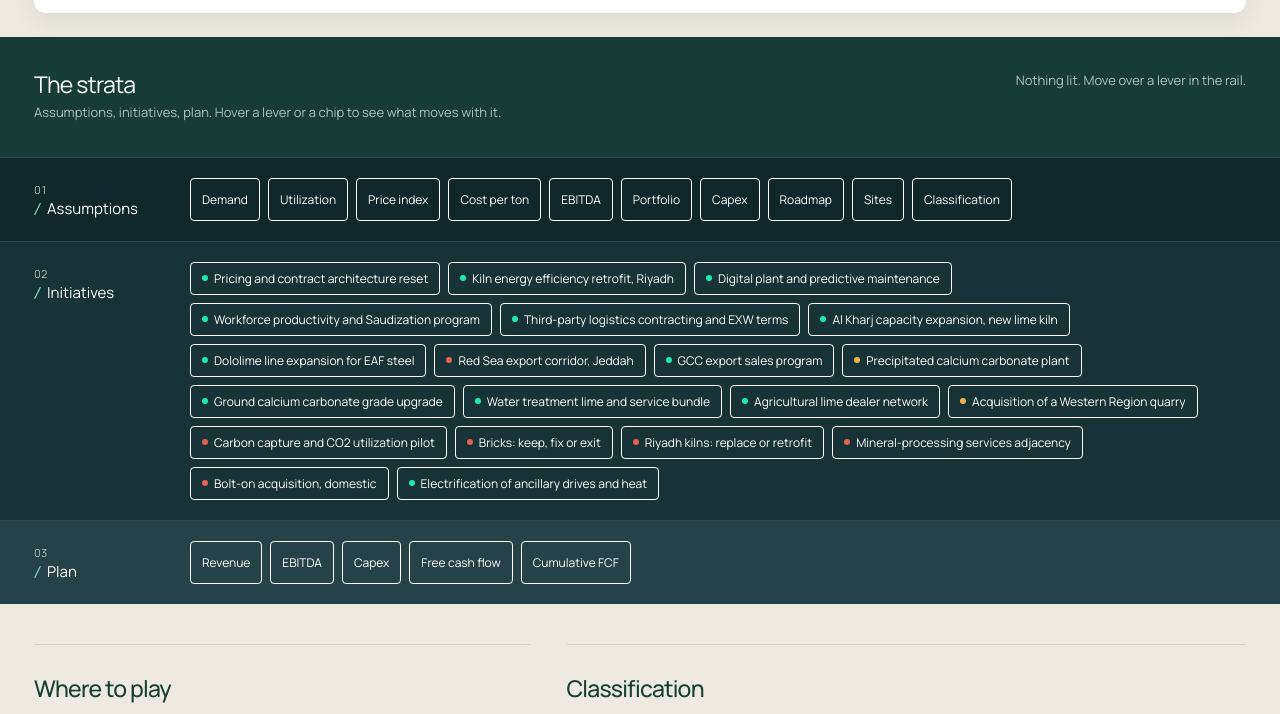
Test case: Strategic direction view › lights a path from a chip on hover and clears on leave
(page scrolled)
Step 1. Hover over the button "Red Sea export corridor, Jeddah" → (540, 360), box [434,344,646,376]
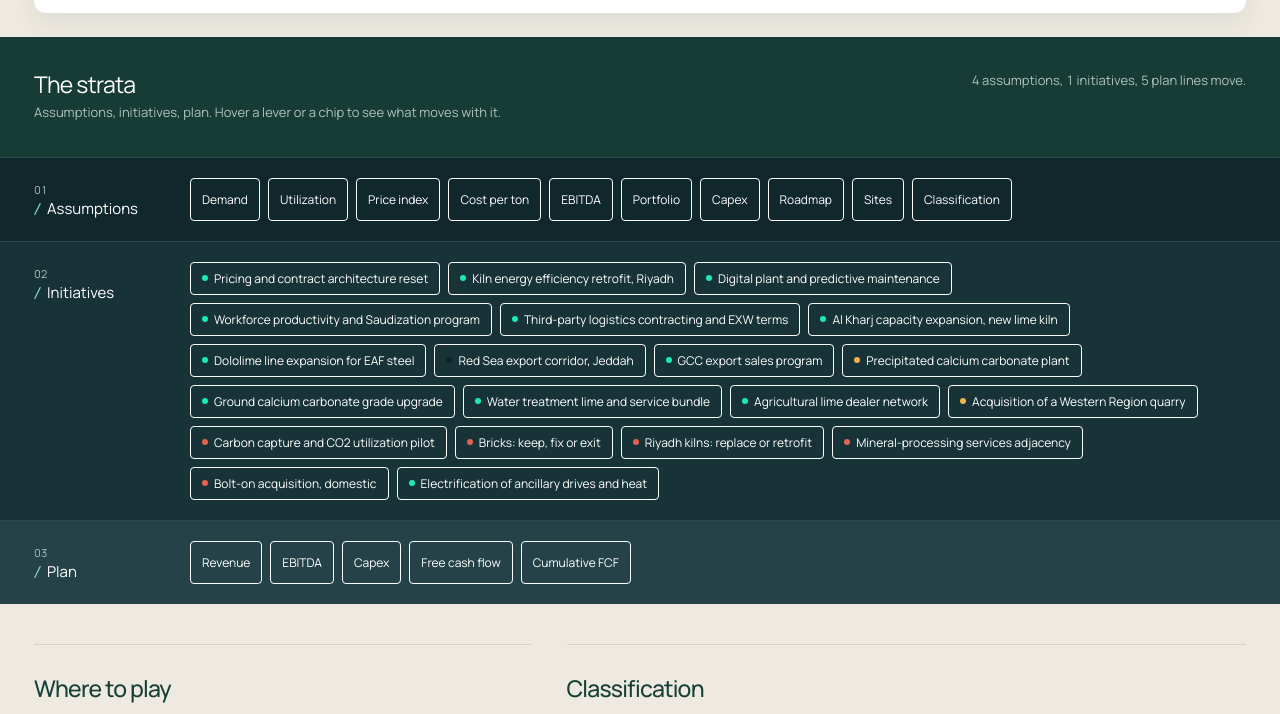
Step 2. Move the pointer off the button "Red Sea export corridor, Jeddah", box [434,344,646,376]
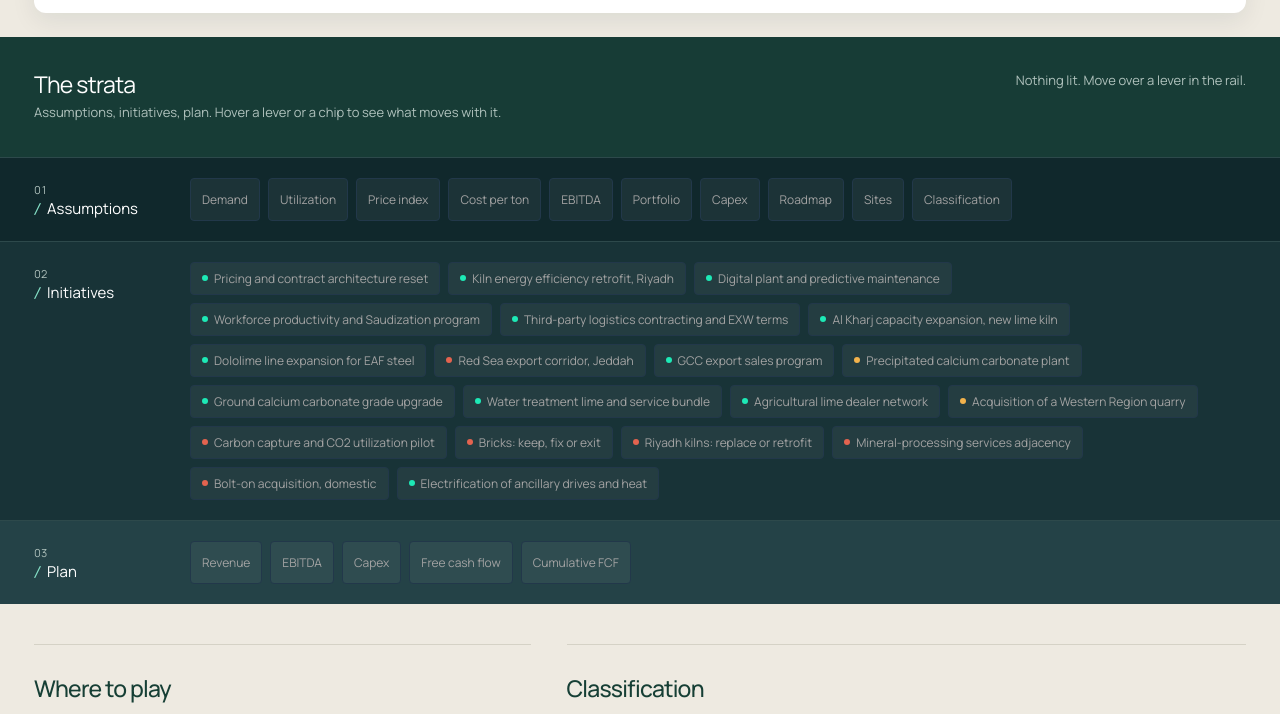
expect the text "Nothing lit. Move over a lever in the rail." is shown: met, box [1016,66,1246,90]
